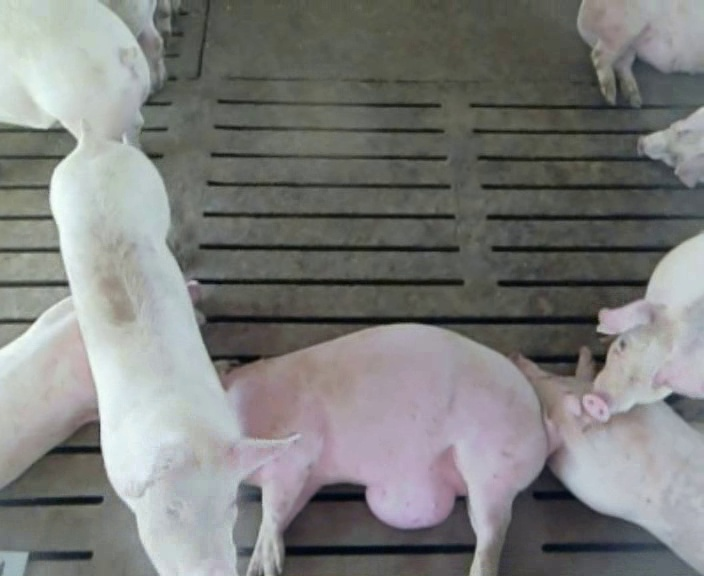pig: (50, 138, 289, 573), (213, 324, 547, 573), (515, 348, 703, 573), (583, 233, 703, 420), (577, 2, 703, 106), (637, 107, 703, 187)
